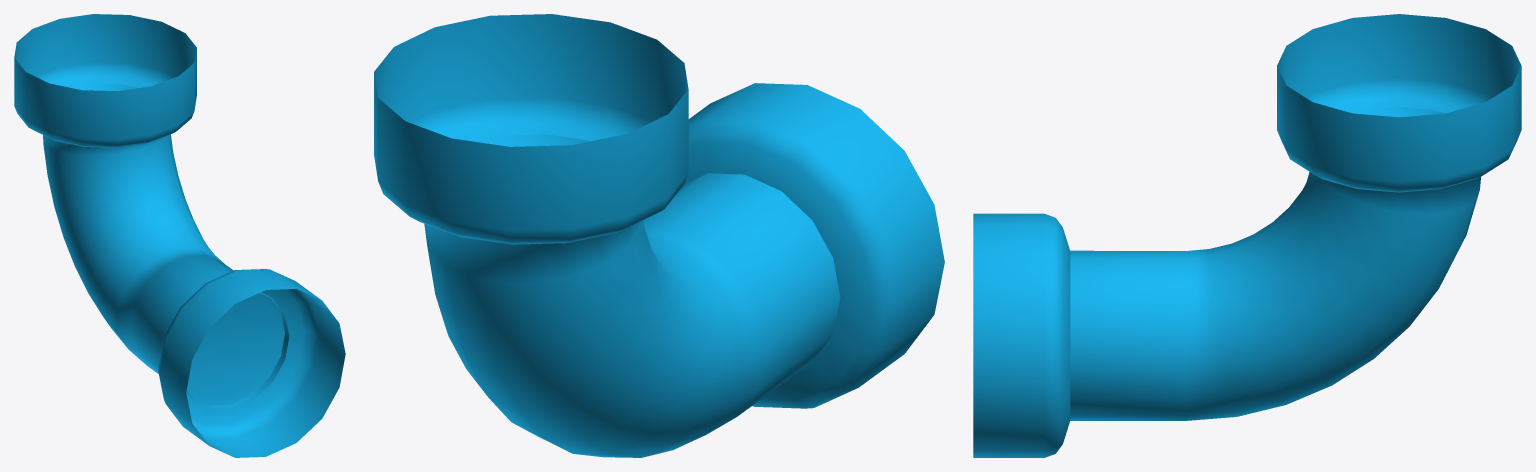
The model's file is pipe_angle_short_two_caps.gltf.
3 renders of one model, left to right at view 1: azimuth 30°, elevation 25°; view 2: azimuth 150°, elevation 25°; view 3: azimuth 270°, elevation 25°, orthographic. The views are drawn at different scales.
Visible parts, largest first — view 1: pipe_angle_short_two_caps; view 2: pipe_angle_short_two_caps; view 3: pipe_angle_short_two_caps.
Part boxes in pixels (box(x1,y1,x2,y2)): pipe_angle_short_two_caps: box(14, 14, 345, 457); pipe_angle_short_two_caps: box(374, 14, 944, 457); pipe_angle_short_two_caps: box(973, 14, 1521, 457).
Size of the model in its own units: 0.5742 by 0.9871 by 1.29.
